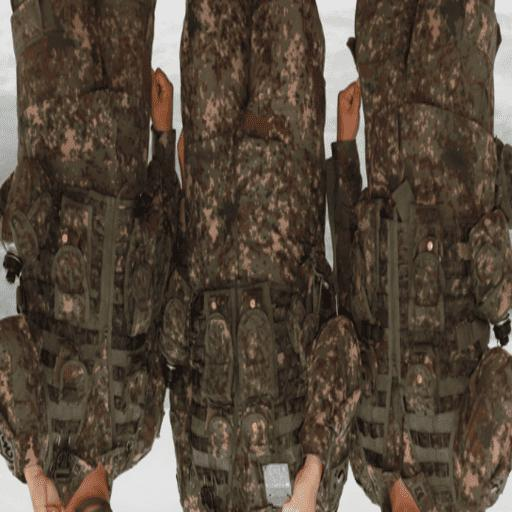korea army: (158, 3, 363, 512), (0, 3, 175, 512), (340, 4, 512, 512)
